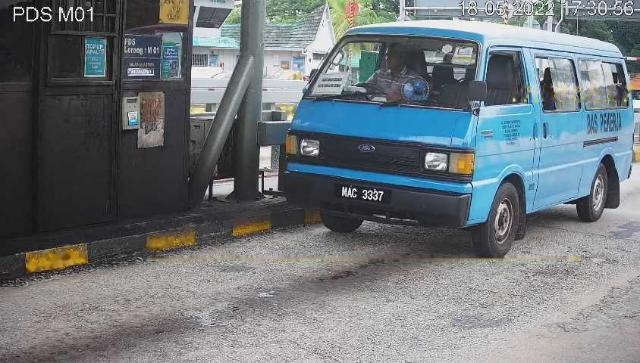License_Plate: (335, 184, 393, 208)
van: (285, 21, 635, 259)
